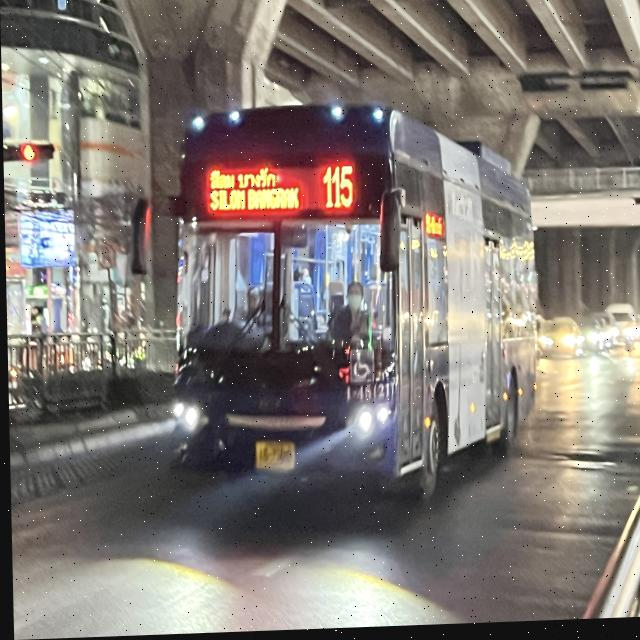Bus Line Number: (317, 162, 364, 217)
Bus Side Number: (340, 385, 394, 407)
Destination Sign: (205, 165, 304, 218)
TSB-Bus: (170, 106, 540, 501)
